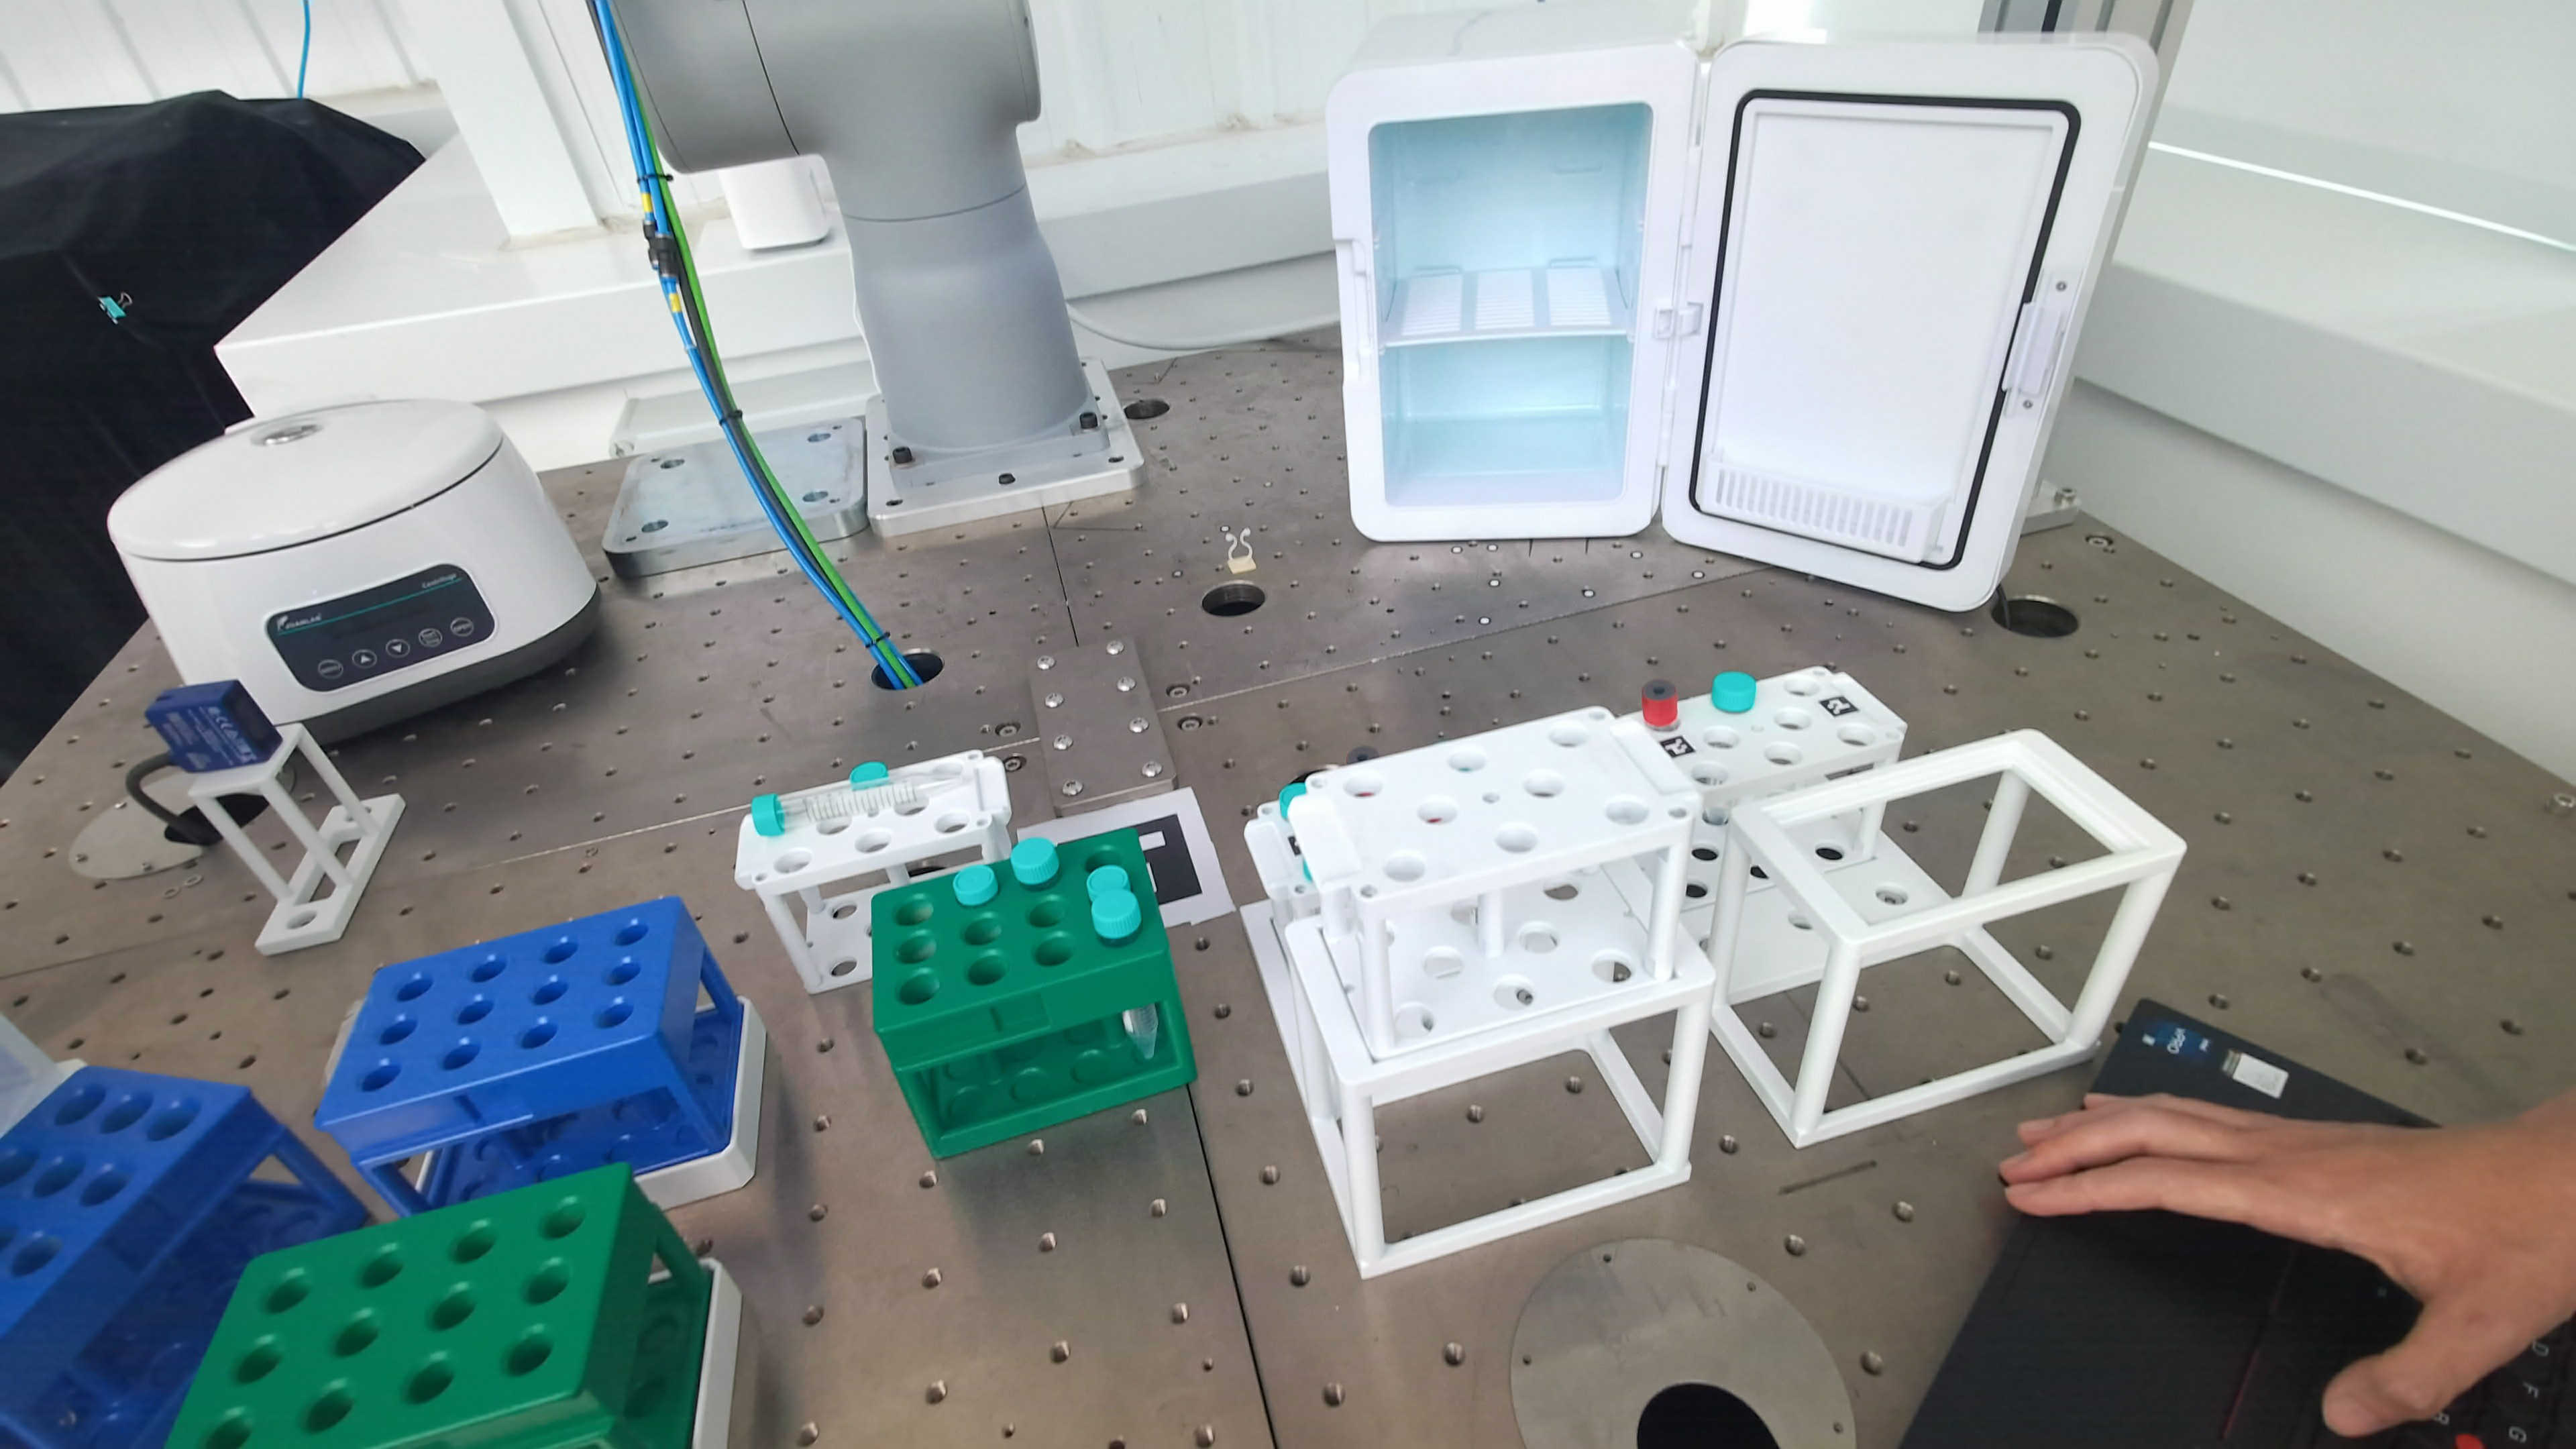10ML_centrifuge_tube: (750, 782, 934, 837), (1088, 863, 1141, 941), (1010, 837, 1060, 888), (1711, 672, 1757, 713)
10ML_sorting_tube_rack: (0, 1067, 364, 1445), (317, 897, 745, 1214)
5ML_centrifuge_tube: (952, 863, 1000, 908), (1088, 865, 1131, 901), (1277, 777, 1307, 819), (849, 761, 890, 789)
5ML_sorting_tube_rack: (168, 1164, 711, 1449), (872, 830, 1196, 1157)
blood_tube: (1642, 679, 1679, 731)
centrifuge_close: (108, 400, 600, 741)
dispensing_tube_rack: (879, 671, 2185, 1276), (736, 750, 1014, 993)
refrigerator_open: (1327, 12, 2157, 609)
sorting_tube_rack_base: (635, 1000, 766, 1208), (692, 1258, 743, 1449)
